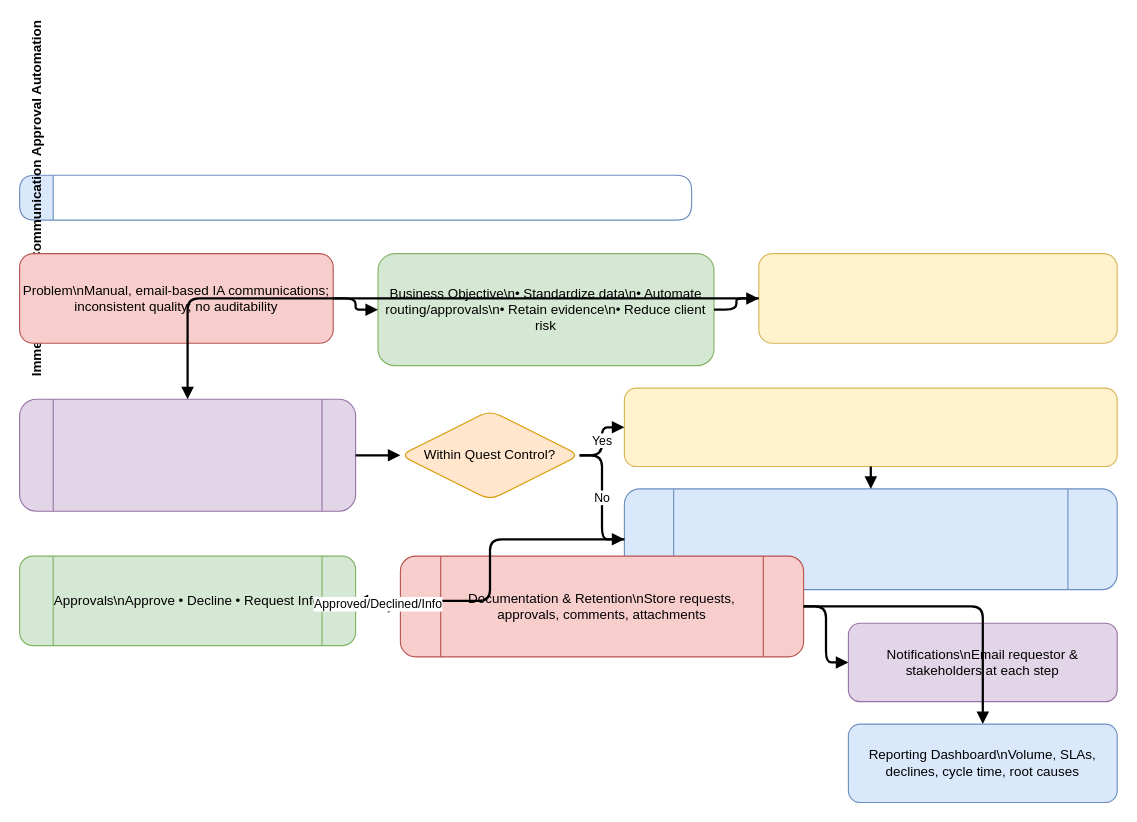
Some shapes in this 1137 by 822 pixel diagram are drawn without their labels. Here are the shapes that lost their labels. From the top down, the centre of each, then its label:
(x=937, y=298): Platform Recommendation\nSalesforce (rec) • ServiceNow • SharePoint
(x=870, y=426): If Yes: add corrective action, root cause, secondary approval (EVP Cathy)
(x=187, y=454): Form Submission\n• Web form (required fields)\n• Conditional logic\n• Attach CIA
(x=870, y=539): Automated Routing\nETLO → Katie (SVP Esoteric Ops)\nNLO → SVP National Ops
